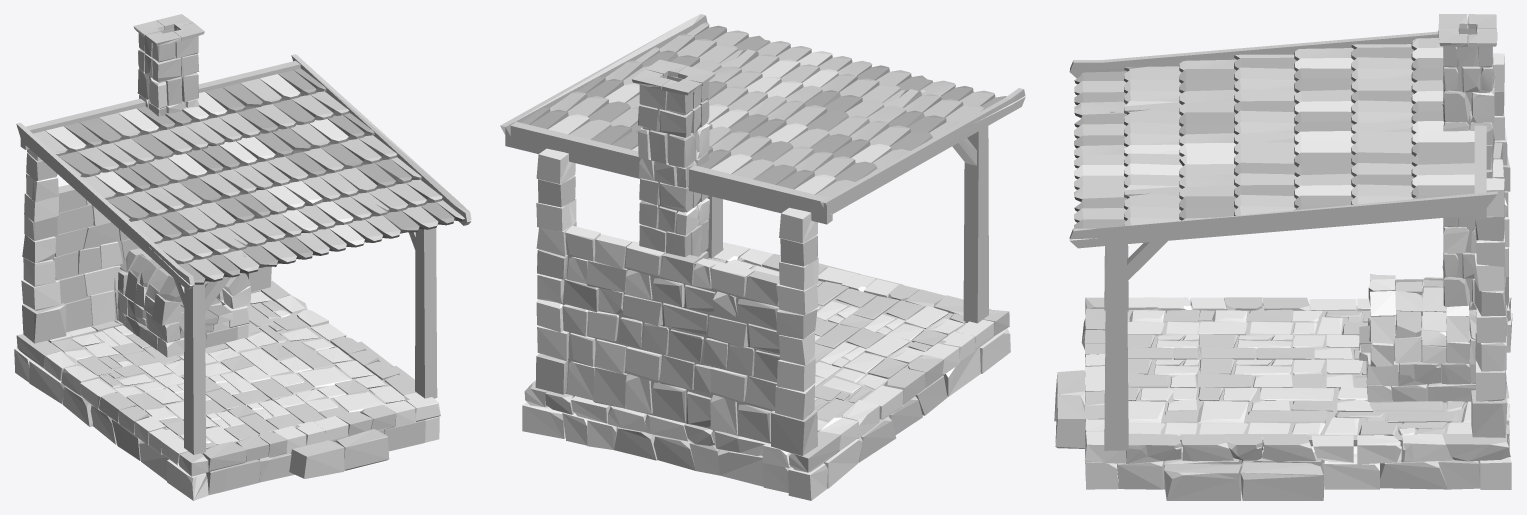
File: PT_Blacksmith_Station_01.fbx
3 views of the same model, side by side, from view 1: azimuth 30°, elevation 25°; view 2: azimuth 150°, elevation 25°; view 3: azimuth 270°, elevation 25° (orthographic). The views are drawn at different scales.
Visible parts, largest first — view 1: PT_Blacksmith_Station_01, PT_Blacksmith_Station_01_Roof; view 2: PT_Blacksmith_Station_01, PT_Blacksmith_Station_01_Roof; view 3: PT_Blacksmith_Station_01, PT_Blacksmith_Station_01_Roof.
Boxes of the visible parts, <box> form: PT_Blacksmith_Station_01: <box>14,14,440,500</box>; PT_Blacksmith_Station_01_Roof: <box>16,54,471,454</box>; PT_Blacksmith_Station_01: <box>522,59,1010,500</box>; PT_Blacksmith_Station_01_Roof: <box>500,14,1025,323</box>; PT_Blacksmith_Station_01: <box>1054,14,1512,500</box>; PT_Blacksmith_Station_01_Roof: <box>1069,31,1497,450</box>.
Size of the model in its own units: 639 by 702 by 740.
1 material, 1 textured.
